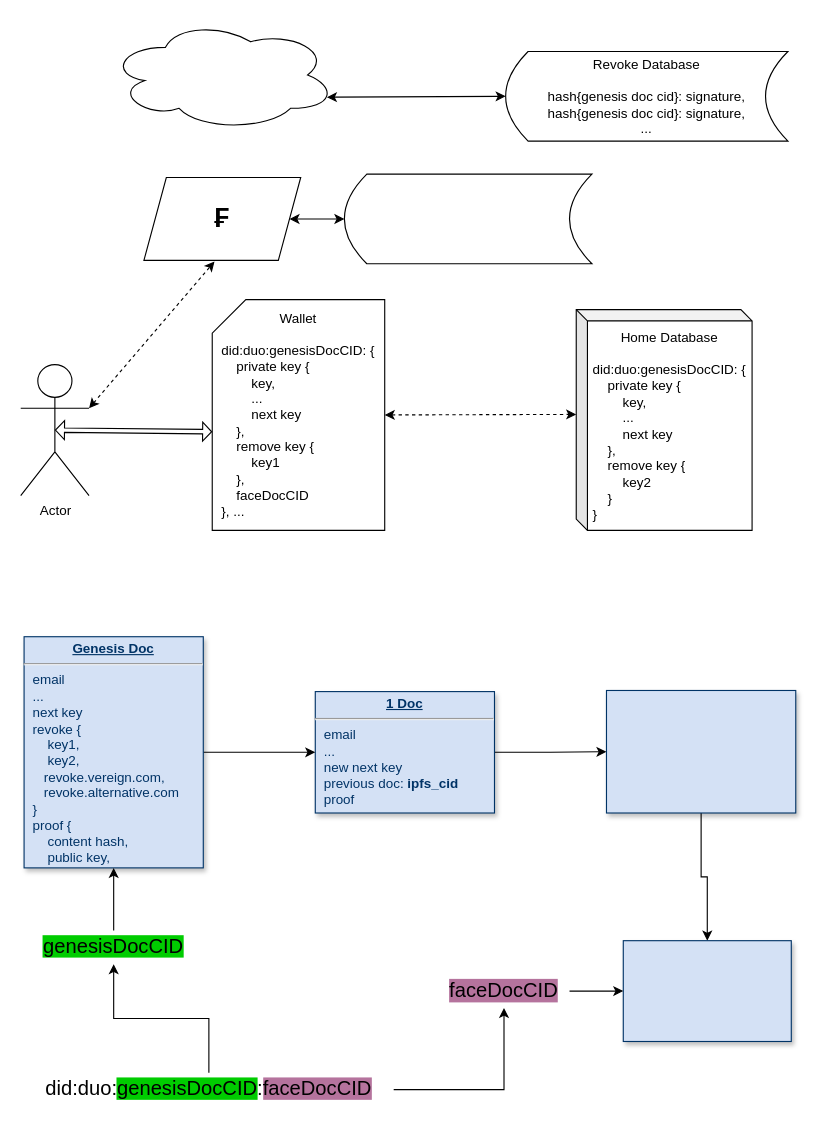
Image size: 822x1126. Some labels were removed from this diagram. The shapes that lost their labels are listed below. From the top down, each one's centre as x and y in pixels, then its label:
At pixel 222 74: "revoke.vereign.com".
At pixel 467 218: "Vereign Database ID -> revoke/key2, ID -> revoke/key2, ...".
At pixel 701 753: "2 Doc email ... next key previous doc: ipfs_cid proof".
At pixel 708 992: "Face Doc ID last doc: ipfs_cid genesis doc: ipfs_cid".
